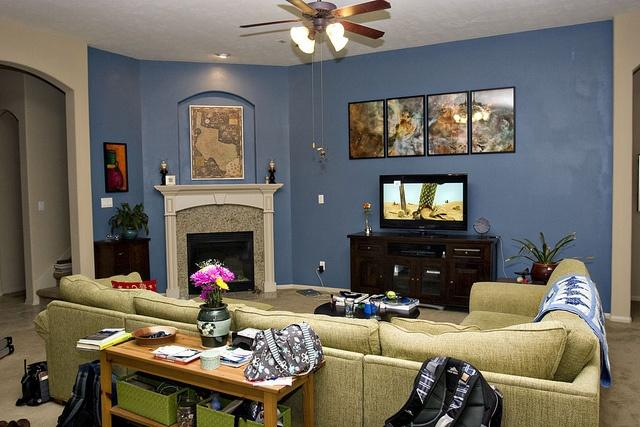AIO PC-Monitor-TV: (378, 173, 468, 237)
Meja: (97, 328, 326, 426)
